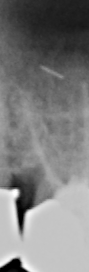fracture: (34, 62, 66, 84)
